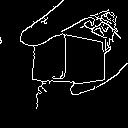cube: (16, 33, 110, 95)
